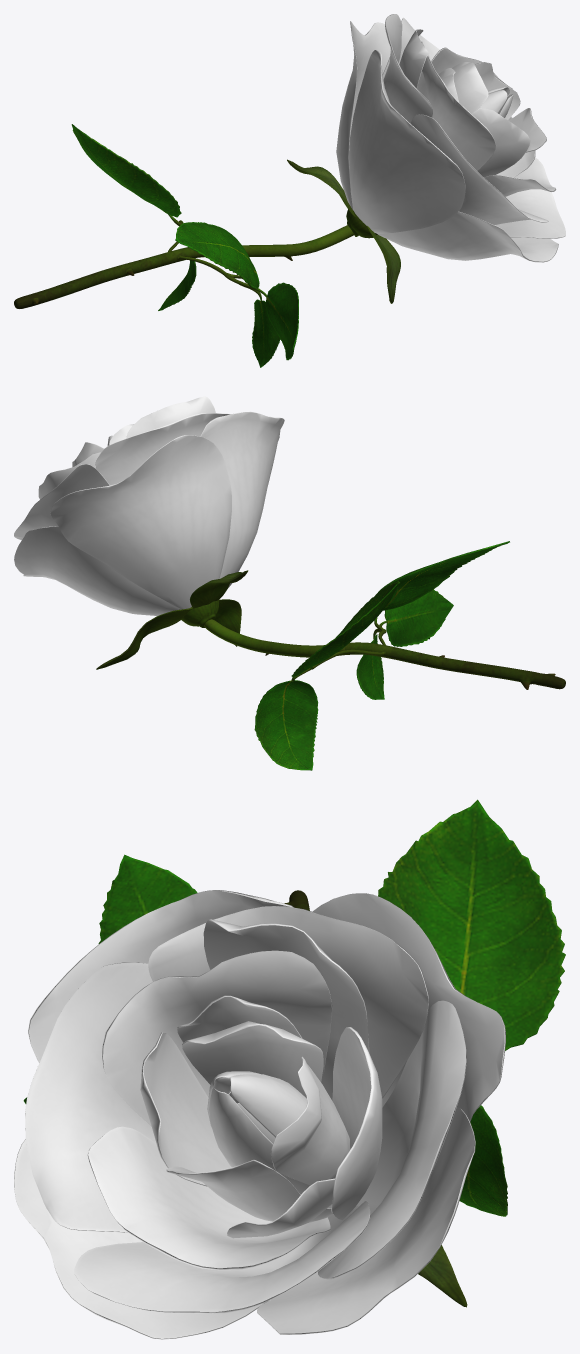
Rendered from rose-3d.glb.
The picture shows the model from 3 angles, top to bottom: view 1: azimuth 30°, elevation 25°; view 2: azimuth 150°, elevation 25°; view 3: azimuth 270°, elevation 25°; orthographic projection. The views are drawn at different scales.
Parts seen in each view (by area): view 1: Uploaded Rose; view 2: Uploaded Rose; view 3: Uploaded Rose.
Boxes of the visible parts, bbox=[...] form: Uploaded Rose: bbox=[14, 14, 565, 367]; Uploaded Rose: bbox=[14, 396, 565, 770]; Uploaded Rose: bbox=[14, 799, 565, 1339].
Bounding box in the file's own units: 0.205 × 0.1009 × 0.1136.
Materials: 3 (3 with a texture image).
